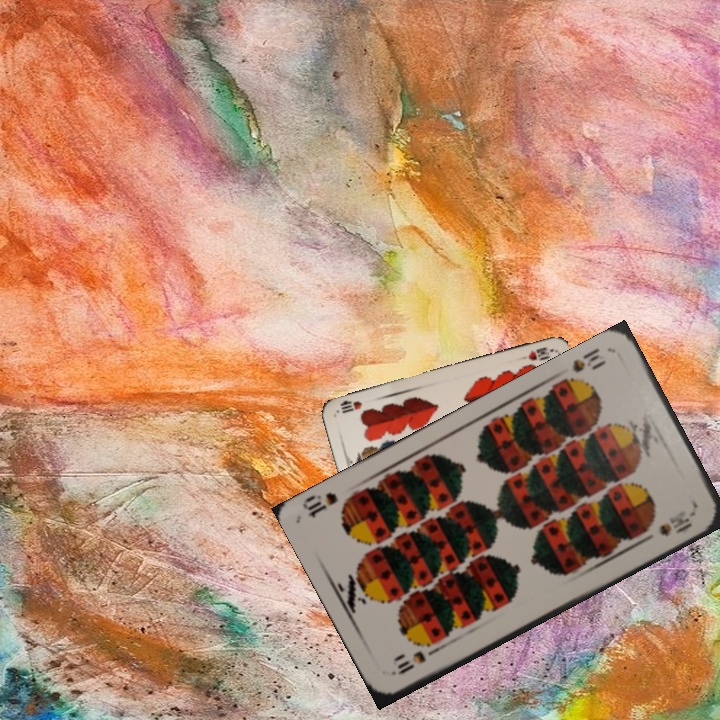H10: (515, 343, 552, 363)
S10: (387, 643, 442, 678), (568, 344, 609, 376)
